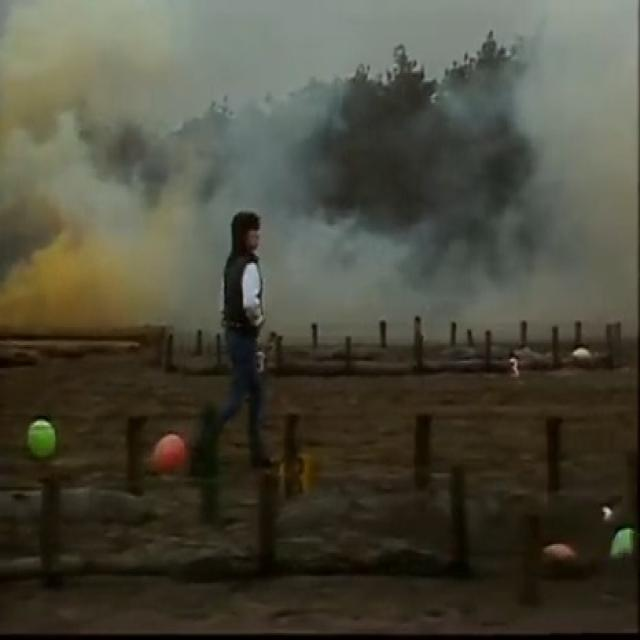balloon: (149, 433, 186, 476), (28, 416, 60, 463), (607, 521, 636, 565), (543, 538, 580, 567), (573, 342, 597, 369)
